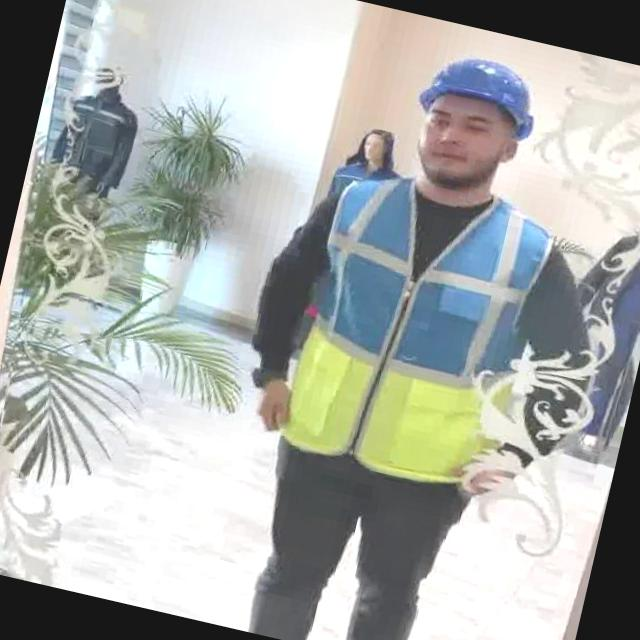vest: (277, 160, 566, 501)
